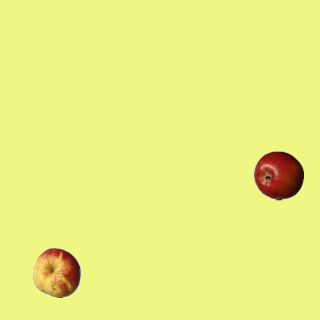Apple Braeburn: (253, 150, 303, 200)
Apple Red Yellow 1: (31, 247, 81, 297)
